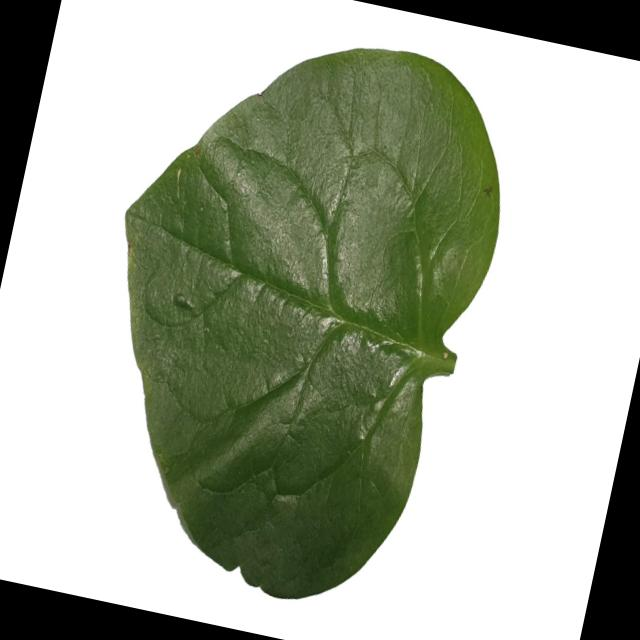Medicinal-Basale: (52, 0, 532, 628)
